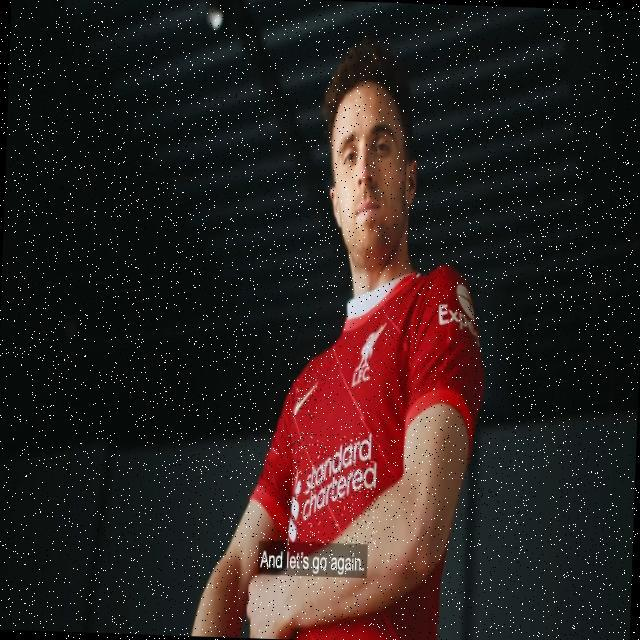Nike: (293, 378, 317, 417)
Standard Chartered: (284, 430, 380, 547)
